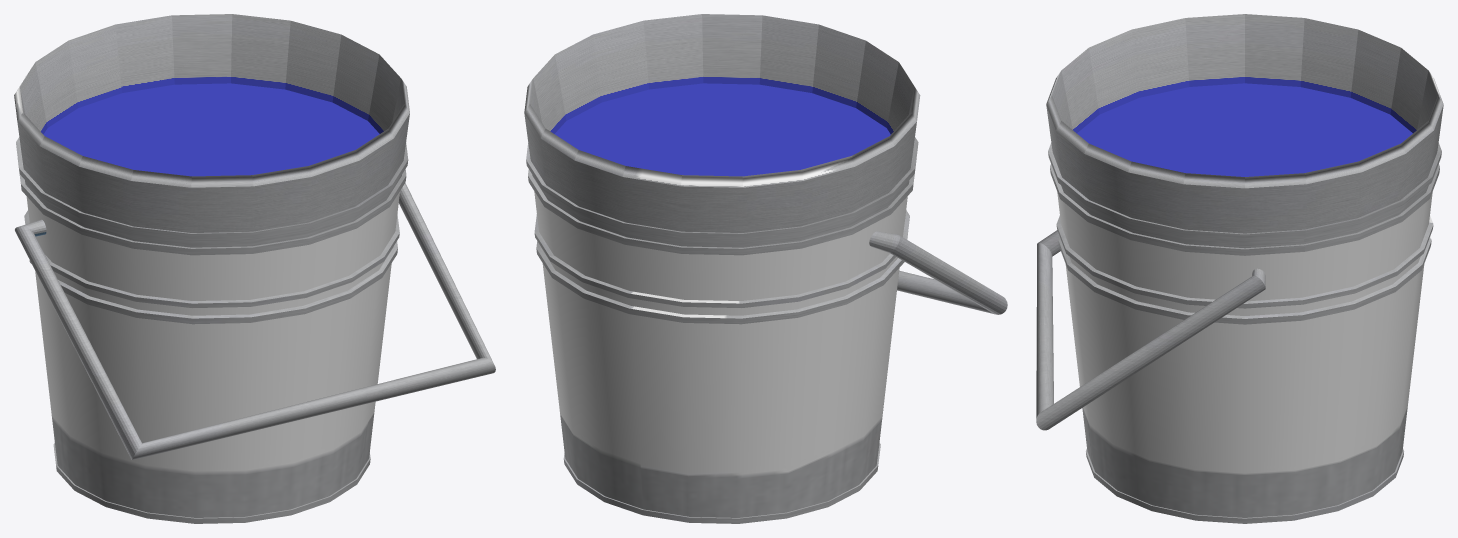
Rendered from PaintBucketBlue.fbx.
The picture shows the model from 3 angles, left to right: view 1: azimuth 30°, elevation 25°; view 2: azimuth 150°, elevation 25°; view 3: azimuth 270°, elevation 25°; orthographic projection.
Visible parts, largest first — view 1: PaintBocket; view 2: PaintBocket; view 3: PaintBocket.
Part boxes in pixels (x1,y1,x2,y2): PaintBocket: (14,14,495,523); PaintBocket: (524,14,1007,523); PaintBocket: (1036,14,1443,523).
Size of the model in its own units: 42.73 by 40.13 by 41.
